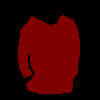felpa: (17, 14, 80, 94)
